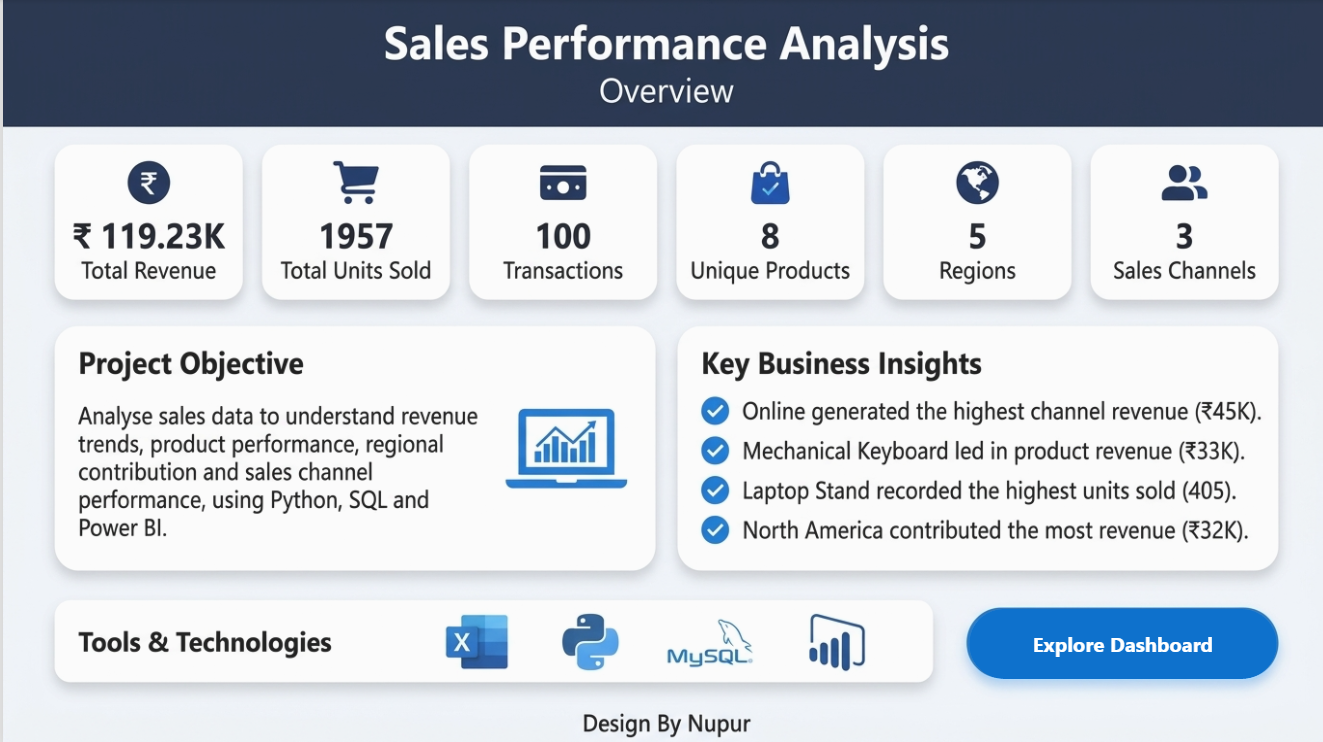

What the dashboard file says about the page in this screenshot:
{"tool":"powerbi","page":{"name":"Home","canvas":[1920,1080],"ordinal":0},"visuals":[{"type":"actionButton","box":[1398.9,883.1,445.2,101.3],"z":0}]}

Visuals, with their boxes in screenshot pixels (x1, y1, x2, y2), scaled from the page's 1920x1080 canvas onto the 1323x742 screenshot:
actionButton: [x1=964, y1=607, x2=1271, y2=676]
